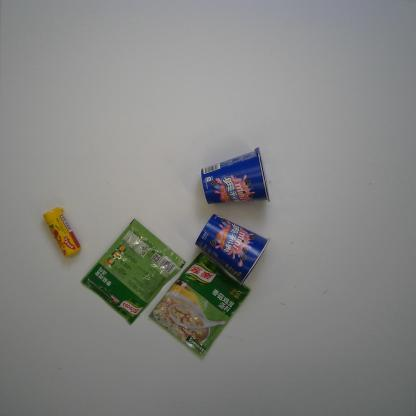Candy: (42, 206, 85, 259)
Dessert: (192, 212, 272, 287), (198, 145, 272, 207)
Seasoner: (77, 217, 187, 328), (147, 248, 253, 359)
